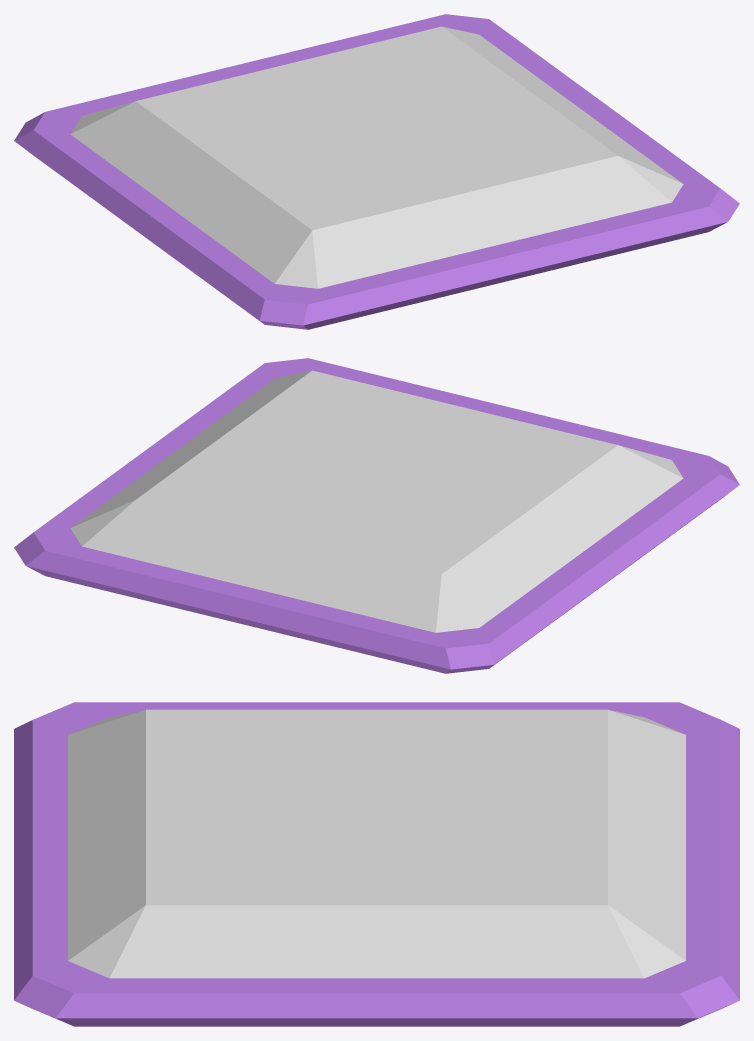
The model's file is blocks (1).fbx.
3 renders of one model, top to bottom at view 1: azimuth 30°, elevation 25°; view 2: azimuth 150°, elevation 25°; view 3: azimuth 270°, elevation 25°, orthographic. The views are drawn at different scales.
Visible parts, largest first — view 1: Cube; view 2: Cube; view 3: Cube.
Part boxes in pixels (x1=…): Cube: x1=14, y1=14, x2=739, y2=329; Cube: x1=14, y1=358, x2=739, y2=673; Cube: x1=14, y1=702, x2=739, y2=1026.
Size of the model in its own units: 200 by 35.2 by 200.
